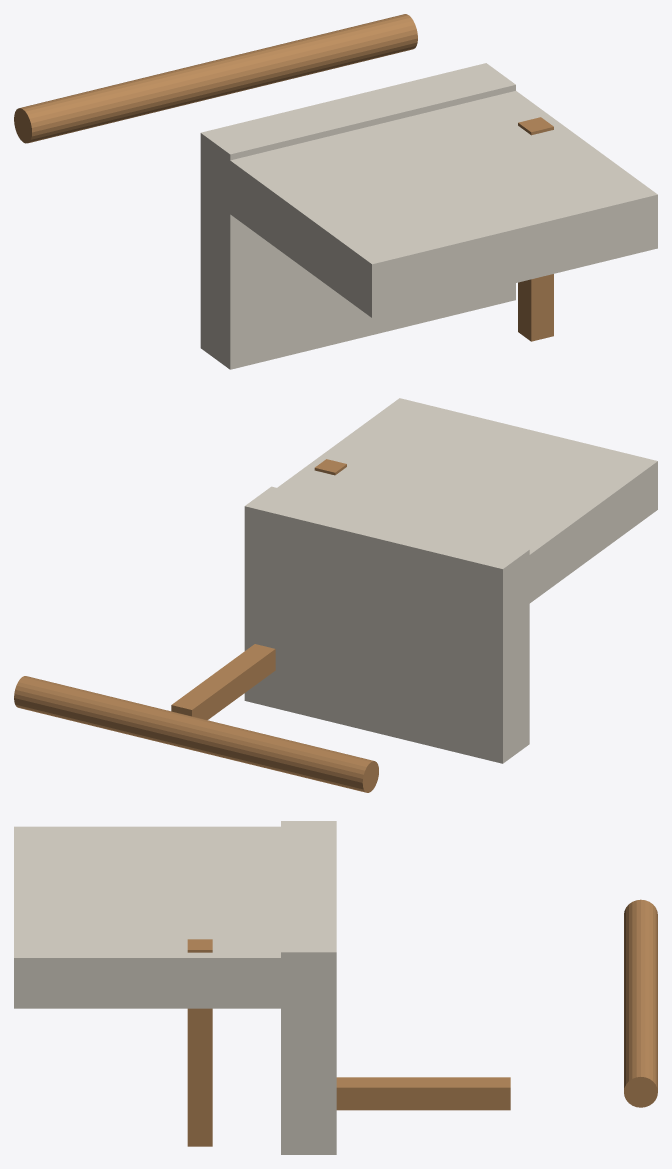
File: rocking-chairs.glb
3 renders of one model, top to bottom at view 1: azimuth 30°, elevation 25°; view 2: azimuth 150°, elevation 25°; view 3: azimuth 270°, elevation 25°, orthographic. The views are drawn at different scales.
Parts seen in each view (by area): view 1: Back, Seat, Runner, Arm; view 2: Seat, Back, Runner, Leg; view 3: Back, Seat, Runner, Leg, Arm.
Boxes of the visible parts, left/top/right/bottom form: Back: left=207, top=91, right=657, bottom=317; Seat: left=200, top=63, right=515, bottom=369; Runner: left=14, top=14, right=417, bottom=143; Arm: left=518, top=117, right=553, bottom=341; Seat: left=244, top=486, right=529, bottom=763; Back: left=277, top=398, right=657, bottom=618; Runner: left=14, top=676, right=378, bottom=792; Leg: left=171, top=644, right=275, bottom=720; Back: left=14, top=826, right=324, bottom=1008; Seat: left=281, top=821, right=336, bottom=1154; Runner: left=624, top=899, right=657, bottom=1107; Leg: left=336, top=1077, right=510, bottom=1110; Arm: left=187, top=939, right=212, bottom=1146.
Bounding box in the file's own units: 1.35 × 0.72 × 2.08.
